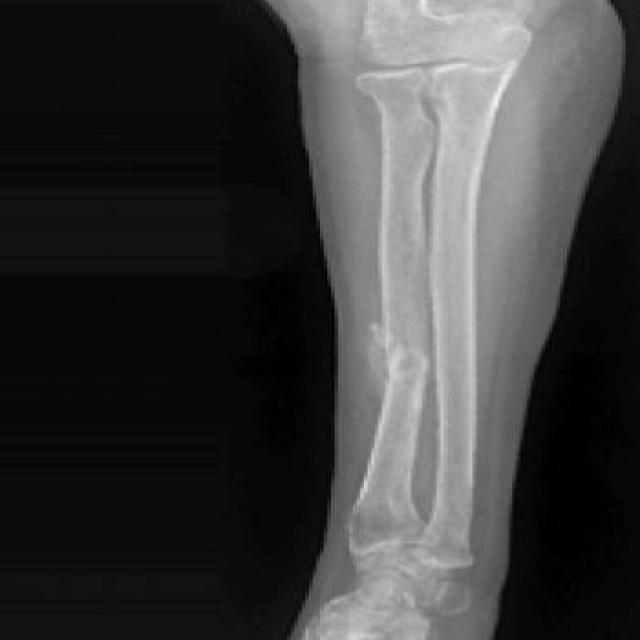Fracture: (357, 334, 434, 388)
